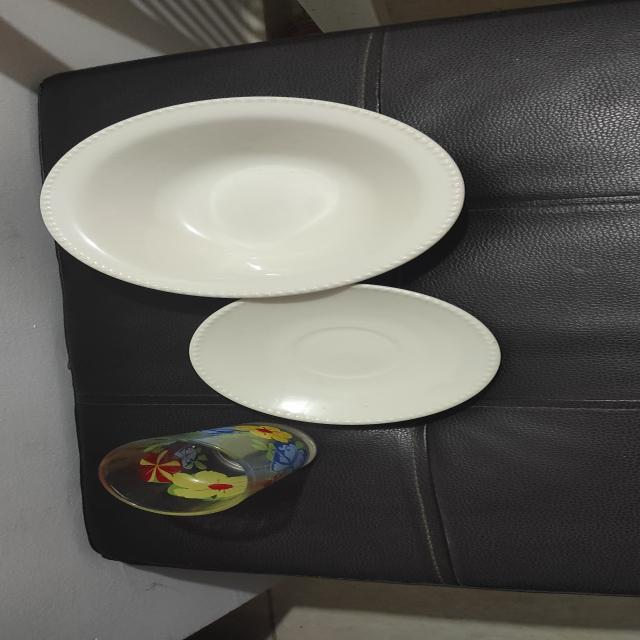non-organic waste: (23, 75, 436, 306), (146, 266, 524, 459)
